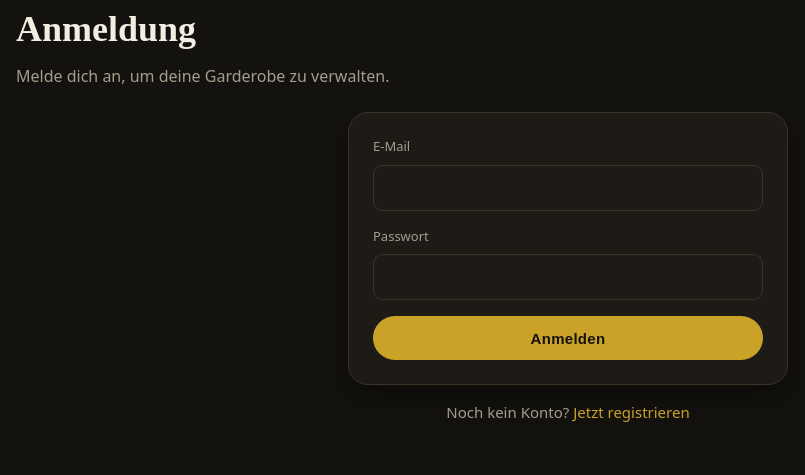
Scenario: login › shows an error on invalid credentials
Type "a@example.com" into the field labelled "E-Mail". click: coordinates (568, 188)
box: [373, 164, 763, 210]
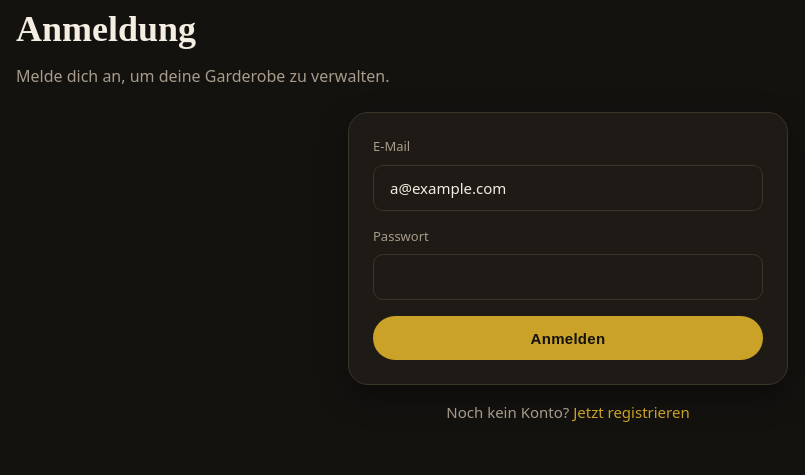
Type "wrong" into the password field labelled "Passwort". click: coordinates (568, 277)
box: [373, 254, 763, 300]
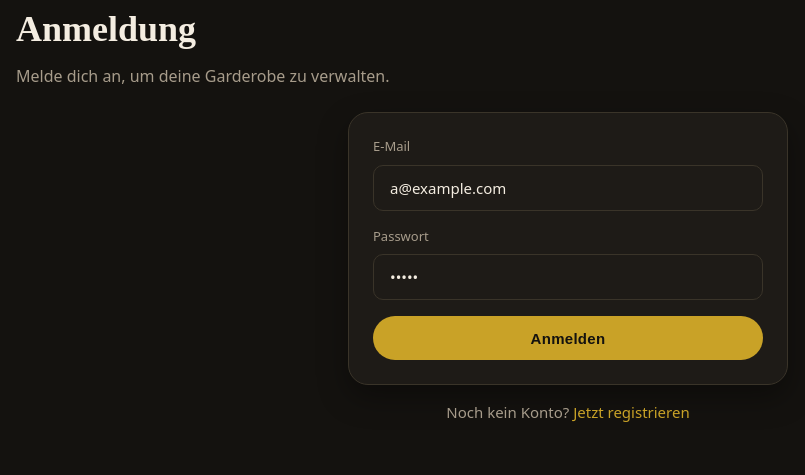
Click the button "Anmelden". click: coordinates (568, 338)
box: [373, 316, 763, 360]
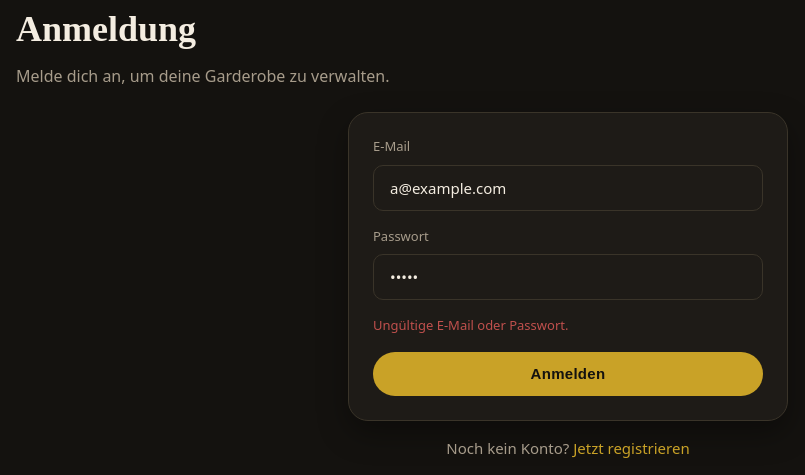
Expected: the message reads "Ungültige E-Mail oder Passwort.", [373, 316, 568, 334]
